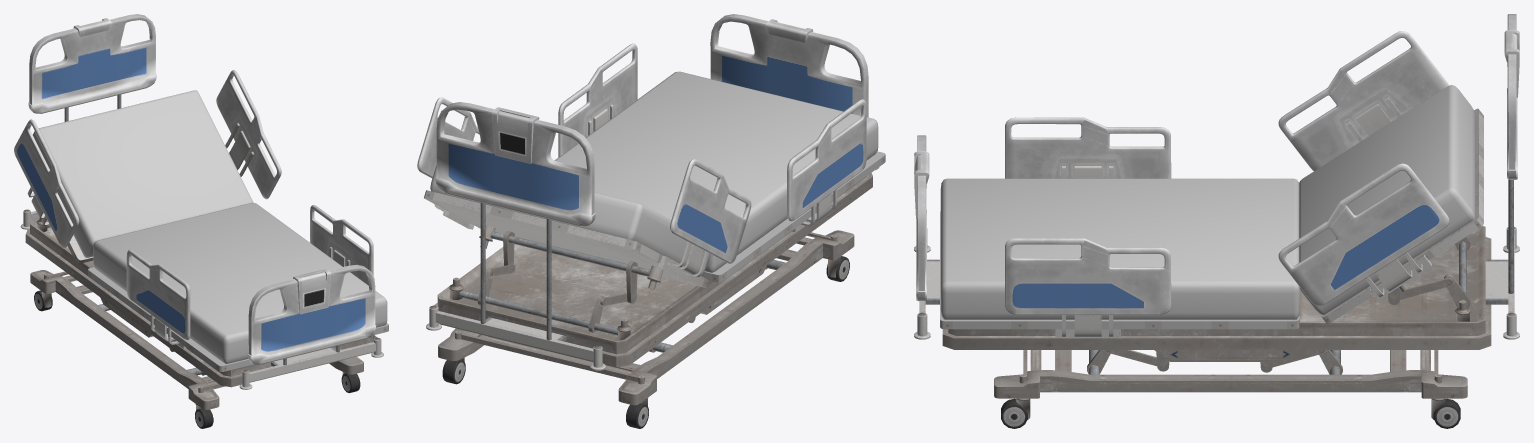
Rendered from SM_InfirmaryBed_B.fbx.
3 views of the same model, side by side, from view 1: azimuth 30°, elevation 25°; view 2: azimuth 150°, elevation 25°; view 3: azimuth 270°, elevation 25° (orthographic). The views are drawn at different scales.
Parts seen in each view (by area): view 1: SM_InfirmaryBed_B_LOD0; view 2: SM_InfirmaryBed_B_LOD0; view 3: SM_InfirmaryBed_B_LOD0.
Part boxes in pixels (x1,y1,x2,y2): SM_InfirmaryBed_B_LOD0: (14,14,388,428); SM_InfirmaryBed_B_LOD0: (417,14,885,428); SM_InfirmaryBed_B_LOD0: (914,14,1519,428).
Bounding box in the file's own units: 150 × 284 × 175.
